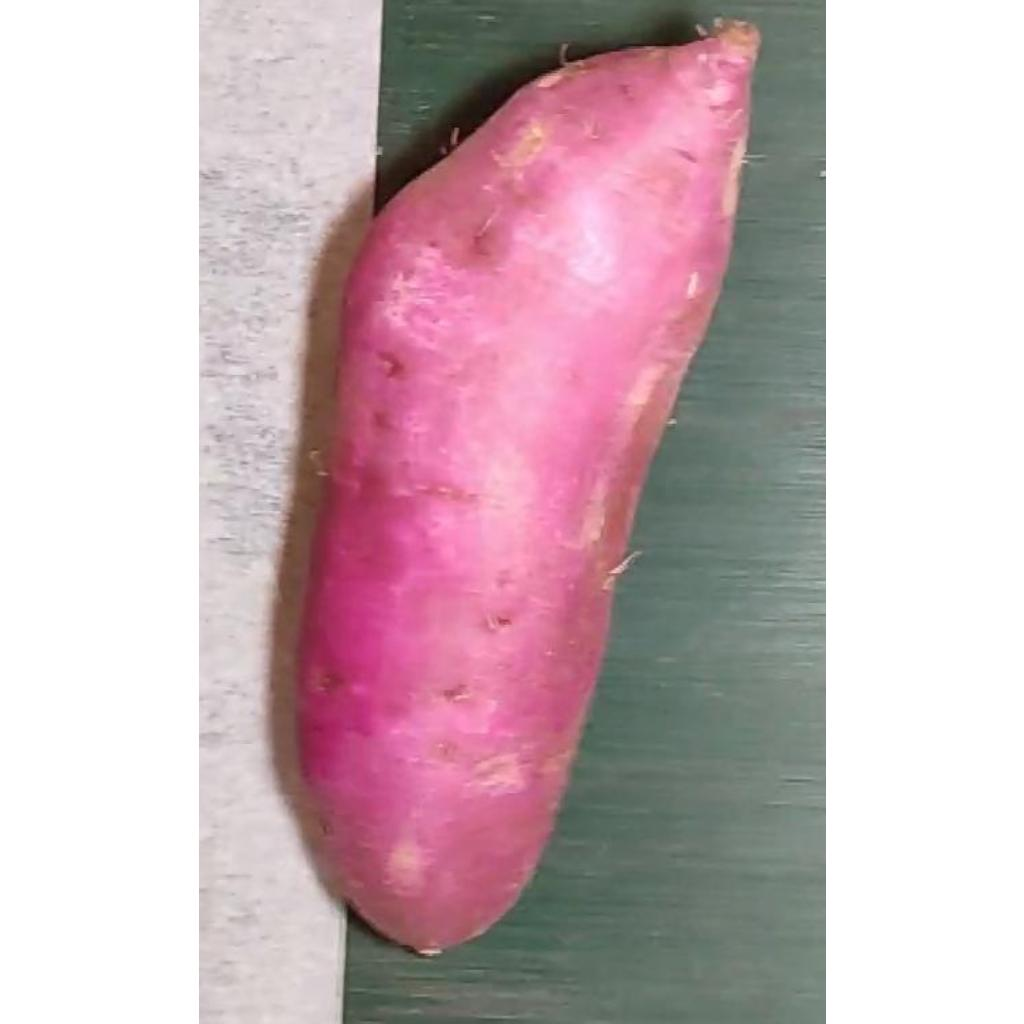Sweet Potato: (292, 22, 762, 960)
